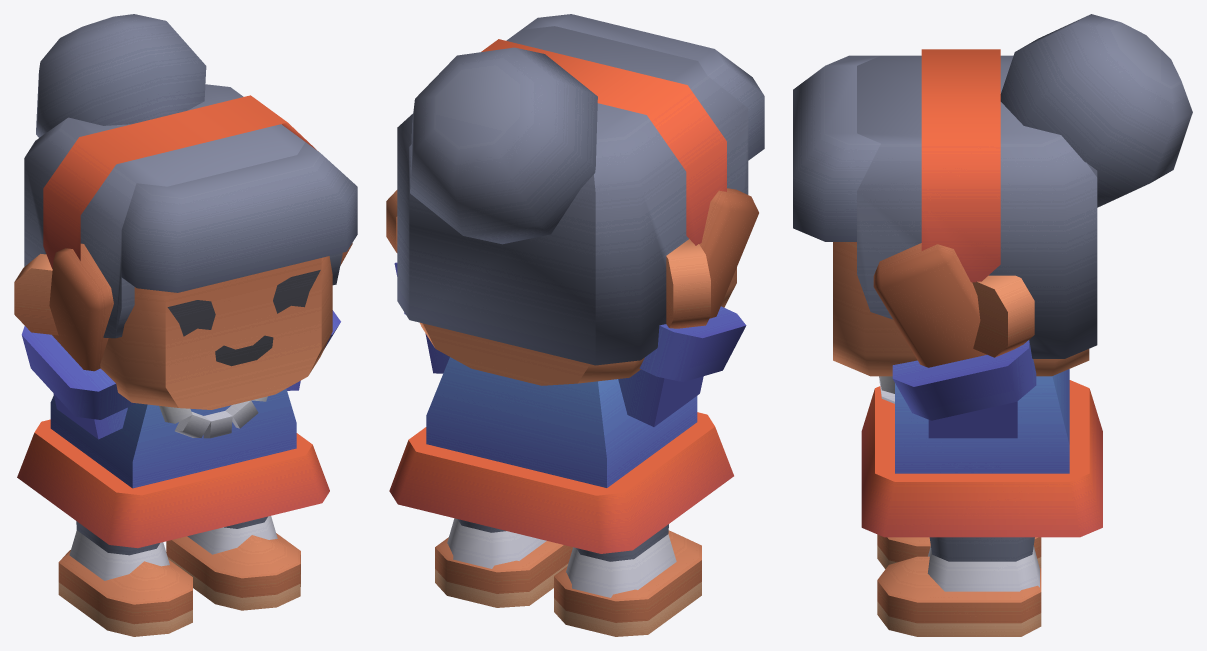
File: character-female-c-idle.glb
The picture shows the model from 3 angles, left to right: view 1: azimuth 30°, elevation 25°; view 2: azimuth 150°, elevation 25°; view 3: azimuth 270°, elevation 25°; orthographic projection. The views are drawn at different scales.
Parts seen in each view (by area): view 1: character-female-c-idle; view 2: character-female-c-idle; view 3: character-female-c-idle.
Part boxes in pixels (x1,y1,x2,y2): character-female-c-idle: (14, 14, 357, 636); character-female-c-idle: (386, 14, 764, 636); character-female-c-idle: (793, 14, 1192, 636).
Bounding box in the file's own units: 0.4535 × 0.7755 × 0.4995.
1 material, 1 textured.
